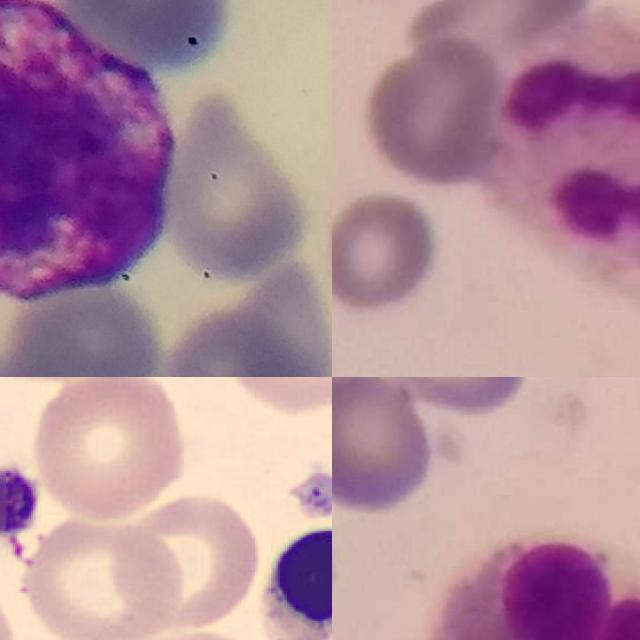Basophil: (0, 0, 179, 303)
Eosinophil: (424, 538, 640, 640)
Lymphocyte: (258, 527, 332, 640)
Neutrophil: (491, 10, 640, 310)
Platelets: (0, 466, 47, 554), (289, 467, 332, 522)
RBC: (25, 377, 192, 520), (108, 487, 266, 635), (13, 510, 189, 640)
